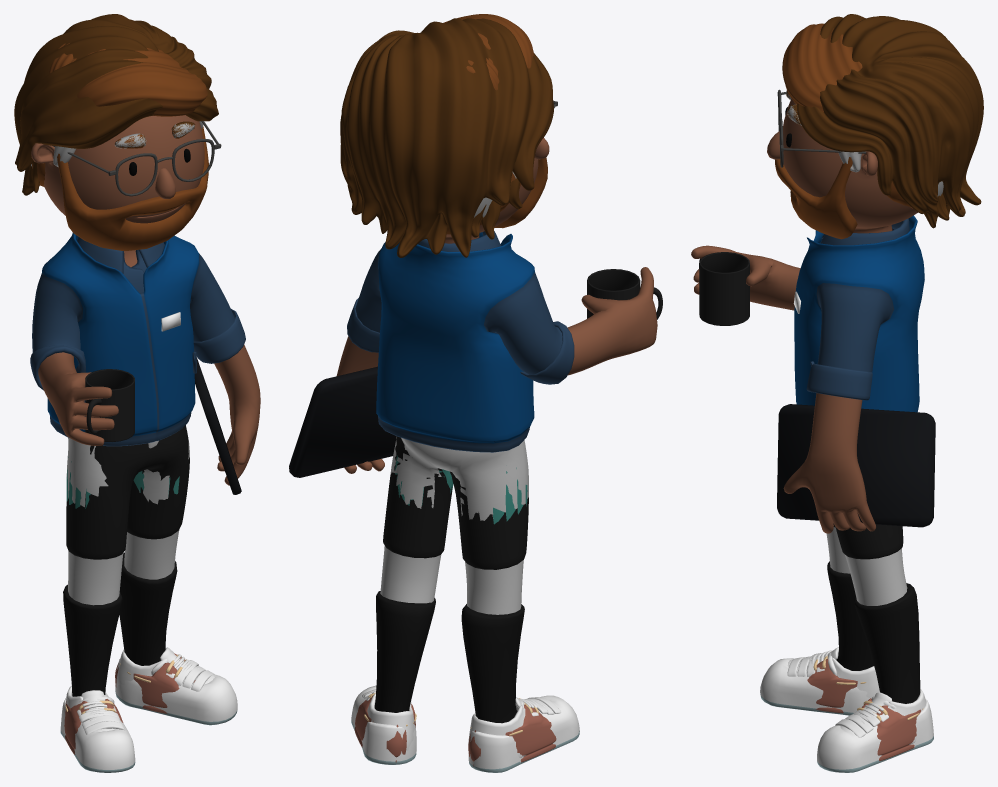
Rendered from Male.gltf.
3 views of the same model, side by side, from view 1: azimuth 30°, elevation 25°; view 2: azimuth 150°, elevation 25°; view 3: azimuth 270°, elevation 25° (orthographic). The views are drawn at different scales.
Visible parts, largest first — view 1: Shirt_with_vest, body, hair_0, LEGS_07, SHOES_08, SHOES_1, LEGS_5, Hair+beard, Hair_1, 22 cup (pose 22), SHOES_6, SHOES_07 (+5 smaller); view 2: hair_0, Shirt_with_vest, LEGS_5, SHOES_08, LEGS_07, 22 iPad (pose 22).001, body, SHOES_1, SHOES_6, SHOES_07, 22 cup (pose 22), Hair_1 (+2 smaller); view 3: hair_0, Shirt_with_vest, body, 22 iPad (pose 22).001, SHOES_08, SHOES_1, Hair_1, 22 cup (pose 22), Hair+beard, LEGS_5, SHOES_6, SHOES_07 (+2 smaller).
Boxes of the visible parts, box(x1,y1,x2,y2) form: Shirt_with_vest: box(30, 232, 245, 446); body: box(31, 115, 260, 485); hair_0: box(14, 14, 218, 195); LEGS_07: box(66, 425, 189, 559); SHOES_08: box(63, 552, 177, 696); SHOES_1: box(60, 650, 237, 772); LEGS_5: box(66, 437, 189, 605); Hair+beard: box(32, 125, 208, 250); Hair_1: box(49, 43, 207, 116); 22 cup (pose 22): box(85, 369, 134, 441); SHOES_6: box(64, 653, 195, 754); SHOES_07: box(64, 647, 214, 737); hair_0: box(340, 18, 553, 257); Shirt_with_vest: box(347, 231, 574, 452); LEGS_5: box(380, 436, 528, 614); SHOES_08: box(374, 591, 524, 723); LEGS_07: box(383, 436, 528, 569); 22 iPad (pose 22).001: box(289, 366, 396, 477); body: box(336, 138, 657, 473); SHOES_1: box(351, 685, 579, 772); SHOES_6: box(354, 692, 556, 766); SHOES_07: box(361, 691, 558, 762); 22 cup (pose 22): box(587, 269, 662, 319); Hair_1: box(443, 14, 534, 90); hair_0: box(786, 14, 983, 228); Shirt_with_vest: box(794, 215, 924, 412); body: box(691, 98, 917, 533); 22 iPad (pose 22).001: box(777, 404, 935, 527); SHOES_08: box(827, 561, 920, 703); SHOES_1: box(760, 653, 933, 772); Hair_1: box(782, 20, 862, 112); 22 cup (pose 22): box(699, 252, 749, 325); Hair+beard: box(775, 157, 912, 239); LEGS_5: box(826, 527, 907, 605); SHOES_6: box(807, 655, 923, 760); SHOES_07: box(787, 647, 926, 747).
Size of the model in its own units: 7.71 by 20.6 by 7.79.
